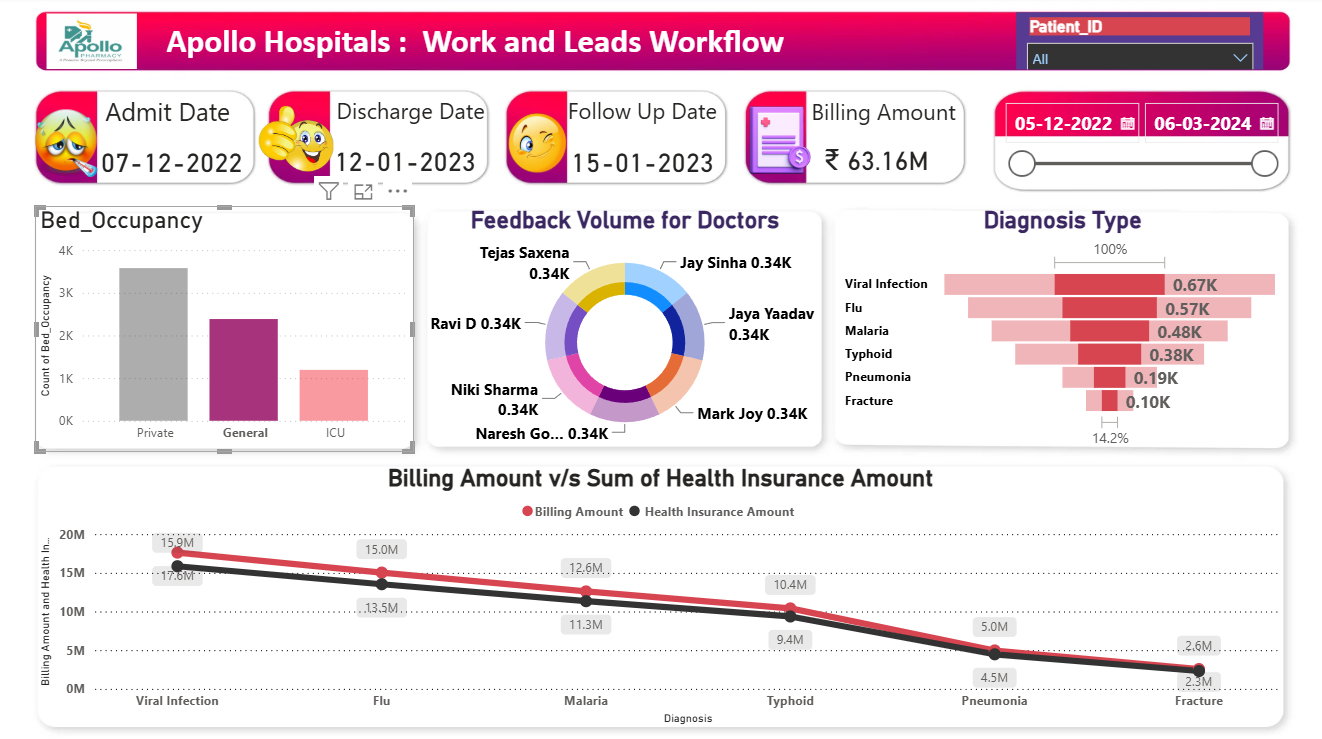

Layout of this report page (visuals, bound fields, positions):
{"tool":"powerbi","page":{"name":"Page 1","canvas":[1280,720],"ordinal":0},"visuals":[{"type":"image","box":[21.7,11.7,133.3,63.3],"z":0},{"type":"textbox","box":[155.6,18.9,673.3,50],"z":1000},{"type":"slicer","fields":{"Values":["Sheet1.Patient_ID"]},"box":[981.2,16.2,238.8,55],"z":2000},{"type":"card","fields":{"Values":["Min(Sheet1.Admit_Date)"]},"box":[63.9,108.6,203.9,103.8],"z":3000},{"type":"textbox","box":[97,91,171,58],"z":4000},{"type":"textbox","box":[320,90.9,171.8,57.3],"z":5000},{"type":"textbox","box":[542.7,90.9,170.9,58.2],"z":6000},{"type":"card","fields":{"Values":["Min(Sheet1.Discharge_Date)"]},"box":[305,128,172,63],"z":7000},{"type":"card","fields":{"Values":["Min(Sheet1.Followup Date)"]},"box":[527,129,186,61],"z":8000},{"type":"textbox","box":[778.8,91.2,160,57.5],"z":9000},{"type":"card","fields":{"Values":["Sum(Sheet1.Billing Amount)"]},"box":[752.5,127.5,186.2,61.2],"z":10000},{"type":"slicer","fields":{"Values":["Sheet1.Admit_Date"]},"box":[957.5,92.5,283.8,97.5],"z":11000},{"type":"columnChart","title":" Bed_Occupancy","fields":{"Category":["Sheet1.Bed_Occupancy"],"Y":["CountNonNull(Sheet1.Bed_Occupancy)"]},"box":[33.8,202.5,365,237.5],"z":12000},{"type":"donutChart","title":"Feedback Volume for Doctors","fields":{"Category":["Sheet1.Doctor"],"Y":["CountNonNull(Sheet1.Doctor)"]},"box":[411.2,202.5,383.8,237.5],"z":13000},{"type":"funnel","title":"Diagnosis Type","fields":{"Category":["Sheet1.Diagnosis"],"Y":["CountNonNull(Sheet1.Diagnosis)"]},"box":[811.2,202.5,430,237.5],"z":14000},{"type":"lineChart","title":" Billing Amount v/s Sum of Health Insurance Amount","fields":{"Category":["Sheet1.Diagnosis"],"Y":["Sum(Sheet1.Billing Amount)","Sum(Sheet1.Health Insurance Amount)"]},"box":[33.8,451.2,1207.5,257.5],"z":15000},{"type":"image","box":[9,84,111,106],"z":16000},{"type":"image","box":[245,96,82,82],"z":17000},{"type":"image","box":[484,101,70,81],"z":18000},{"type":"image","box":[710.9,77.3,80,123.6],"z":19000}]}

Visuals, with their boxes in screenshot pixels (x1, y1, x2, y2), scaled from the page's 1280x720 canvas onto the 1322x739 screenshot:
image: select_region(22, 12, 160, 77)
textbox: select_region(161, 19, 856, 71)
slicer - Sheet1.Patient_ID: select_region(1013, 17, 1260, 73)
card - Min(Sheet1.Admit_Date): select_region(66, 111, 277, 218)
textbox: select_region(100, 93, 277, 153)
textbox: select_region(330, 93, 508, 152)
textbox: select_region(561, 93, 737, 153)
card - Min(Sheet1.Discharge_Date): select_region(315, 131, 493, 196)
card - Min(Sheet1.Followup Date): select_region(544, 132, 736, 195)
textbox: select_region(804, 94, 970, 153)
card - Sum(Sheet1.Billing Amount): select_region(777, 131, 970, 194)
slicer - Sheet1.Admit_Date: select_region(989, 95, 1282, 195)
" Bed_Occupancy" columnChart: select_region(35, 208, 412, 452)
"Feedback Volume for Doctors" donutChart: select_region(425, 208, 821, 452)
"Diagnosis Type" funnel: select_region(838, 208, 1282, 452)
" Billing Amount v/s Sum of Health Insurance Amount" lineChart: select_region(35, 463, 1282, 727)
image: select_region(9, 86, 124, 195)
image: select_region(253, 99, 338, 183)
image: select_region(500, 104, 572, 187)
image: select_region(734, 79, 817, 206)
